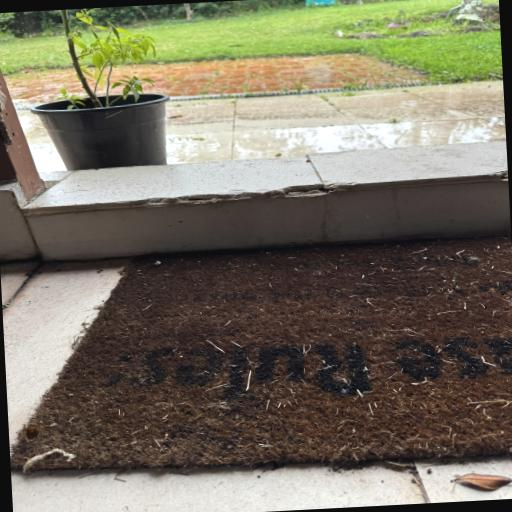step: (22, 141, 511, 260)
